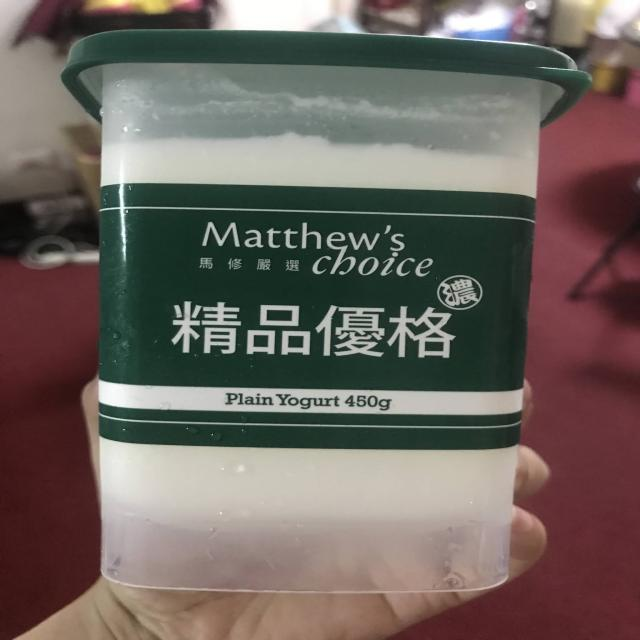plastic: (54, 26, 571, 598)
